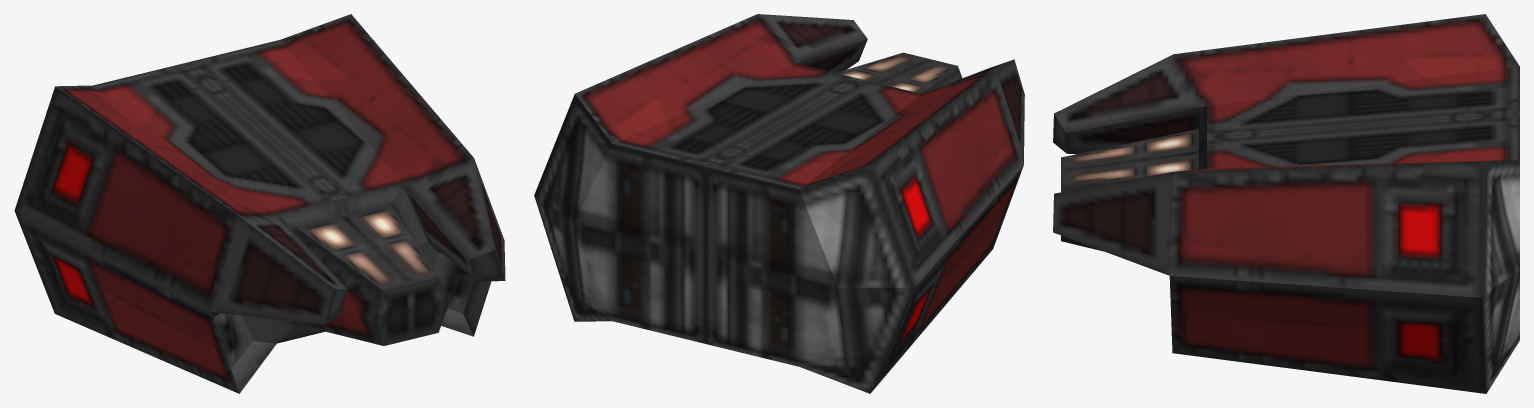
The model's file is BFP_BridgeHolder_01.FBX.
3 renders of one model, left to right at view 1: azimuth 30°, elevation 25°; view 2: azimuth 150°, elevation 25°; view 3: azimuth 270°, elevation 25°, orthographic. The views are drawn at different scales.
Parts seen in each view (by area): view 1: BFP_BridgeHolder_01; view 2: BFP_BridgeHolder_01; view 3: BFP_BridgeHolder_01.
Boxes of the visible parts, x1,y1,x2,y2 form: BFP_BridgeHolder_01: (14,14,505,393); BFP_BridgeHolder_01: (534,14,1024,393); BFP_BridgeHolder_01: (1053,14,1519,393).
Size of the model in its own units: 213 by 122 by 222.
1 material, 1 textured.
